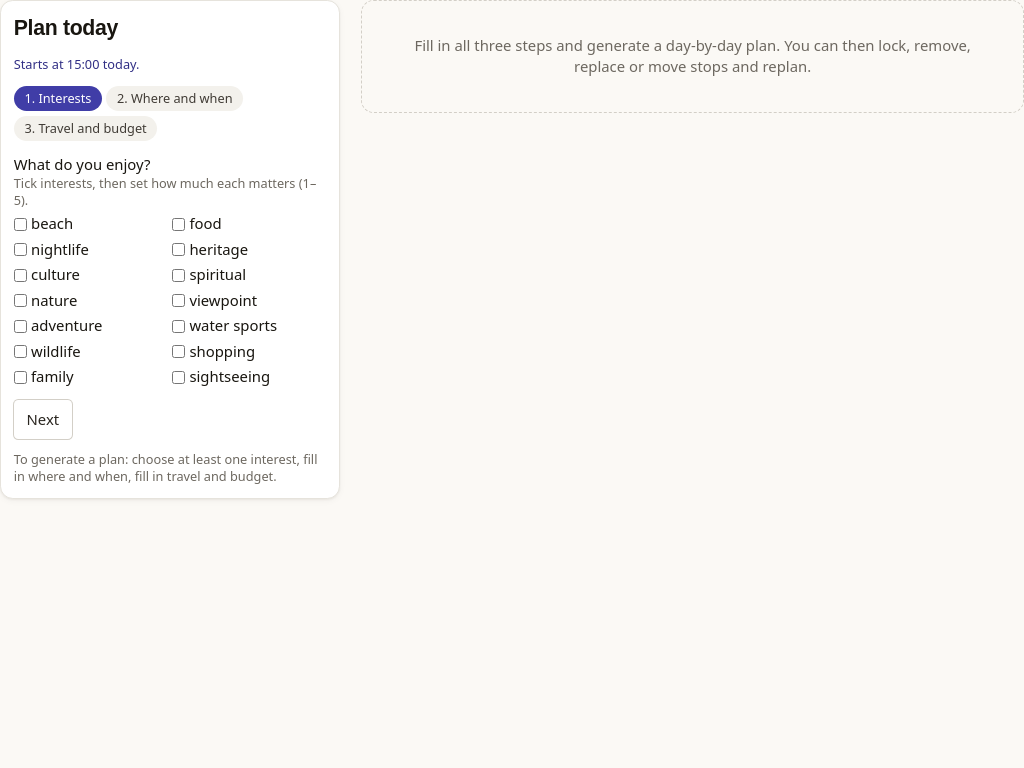
Test: today mode plans one day starting today
Expected: the heading "Plan today" is shown, top-left (14, 16), bottom-right (118, 40)
Click the checkbox labelled "heritage" at (179, 250), box top-left (172, 243), bottom-right (185, 256)
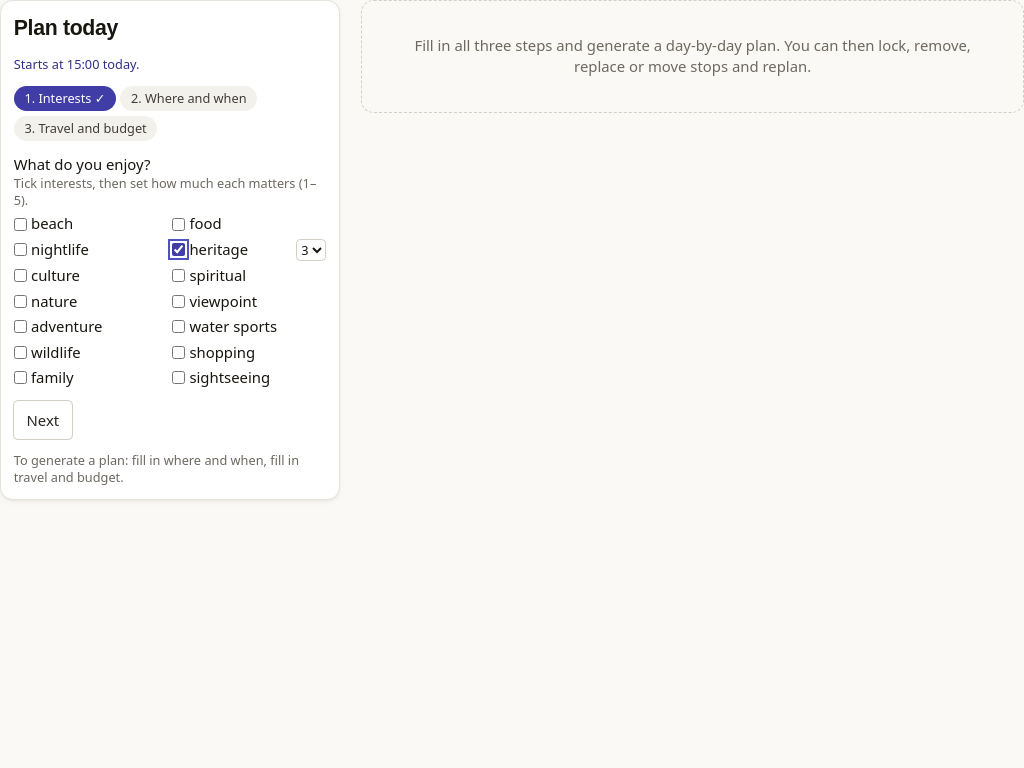
Click the button "Next" at (43, 420), box top-left (14, 401), bottom-right (72, 440)
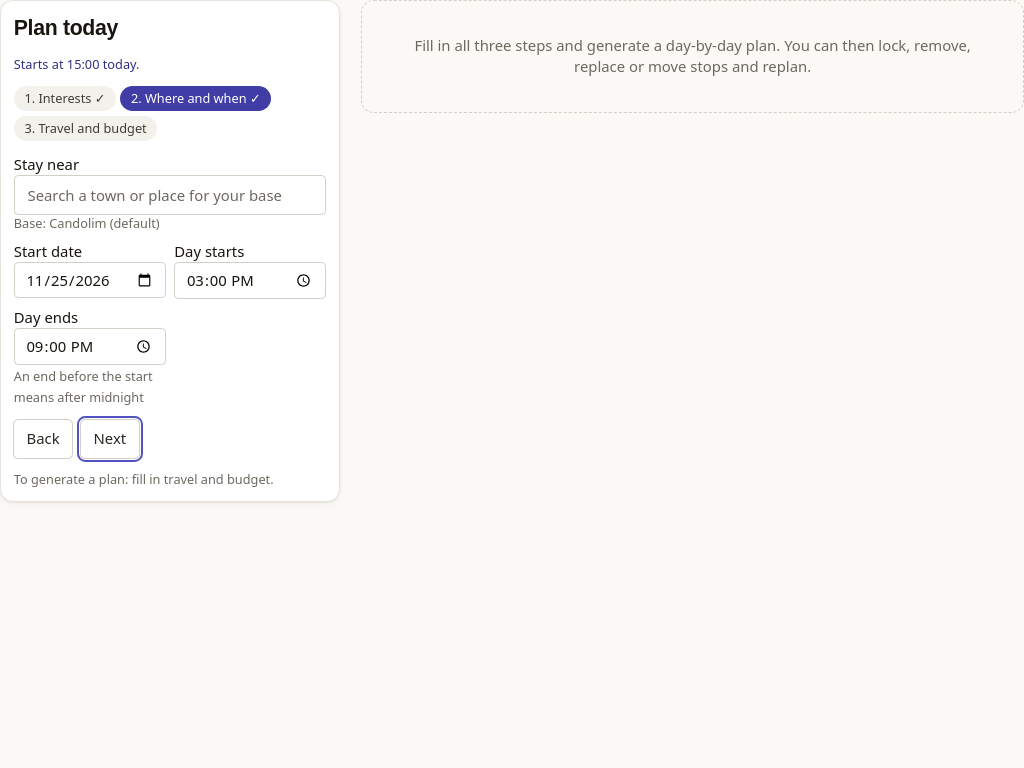
Click the button "Next" at (110, 439), box top-left (81, 420), bottom-right (139, 458)
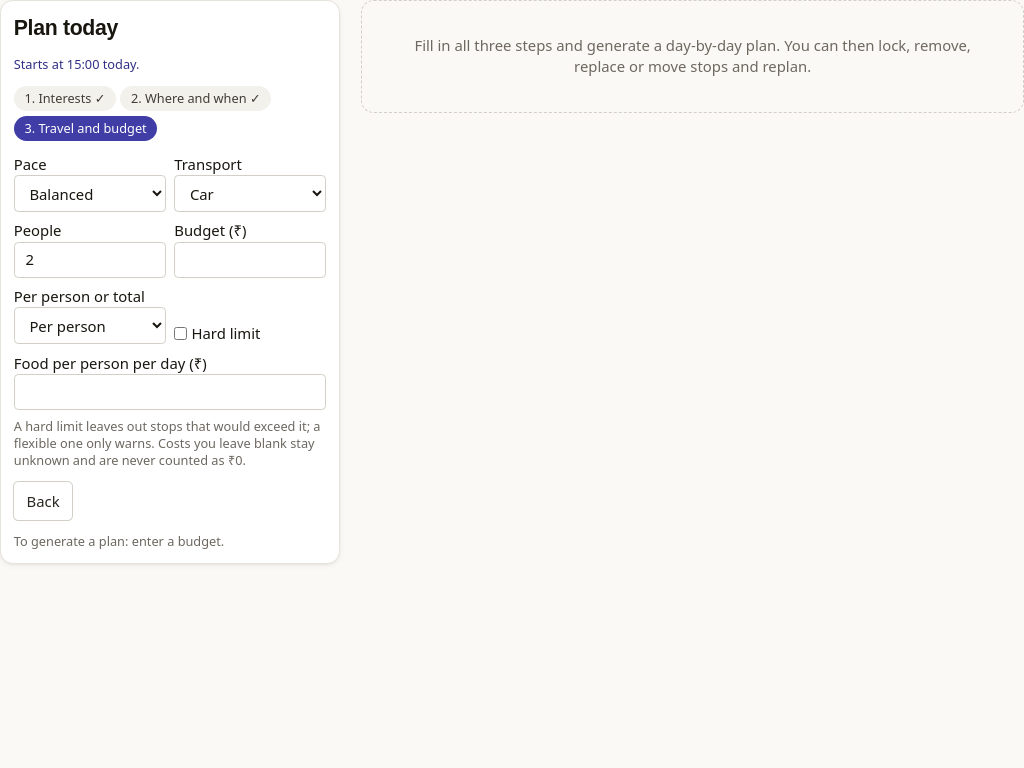
Type "5000" into the number field labelled "Budget (₹)" at (250, 260), box top-left (174, 242), bottom-right (326, 278)
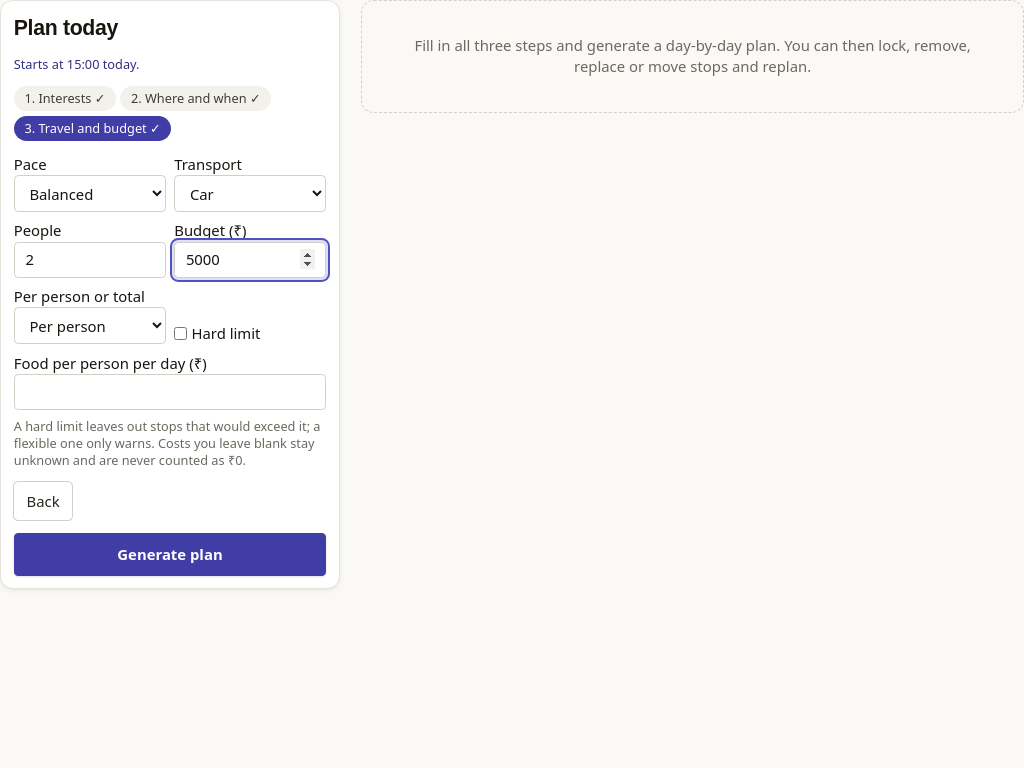
Click the button "Generate plan" at (170, 554), box top-left (14, 533), bottom-right (326, 576)
(page scrolled)
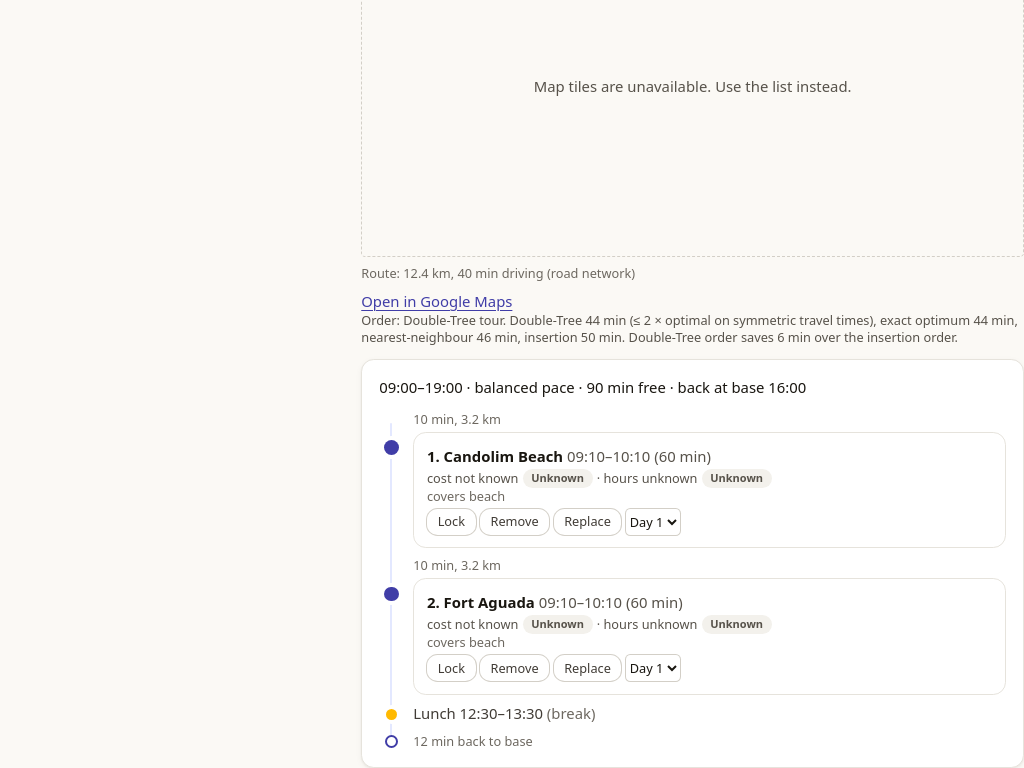
Expected: the list named "day 1 stops" is shown, top-left (379, 410), bottom-right (1006, 750)
